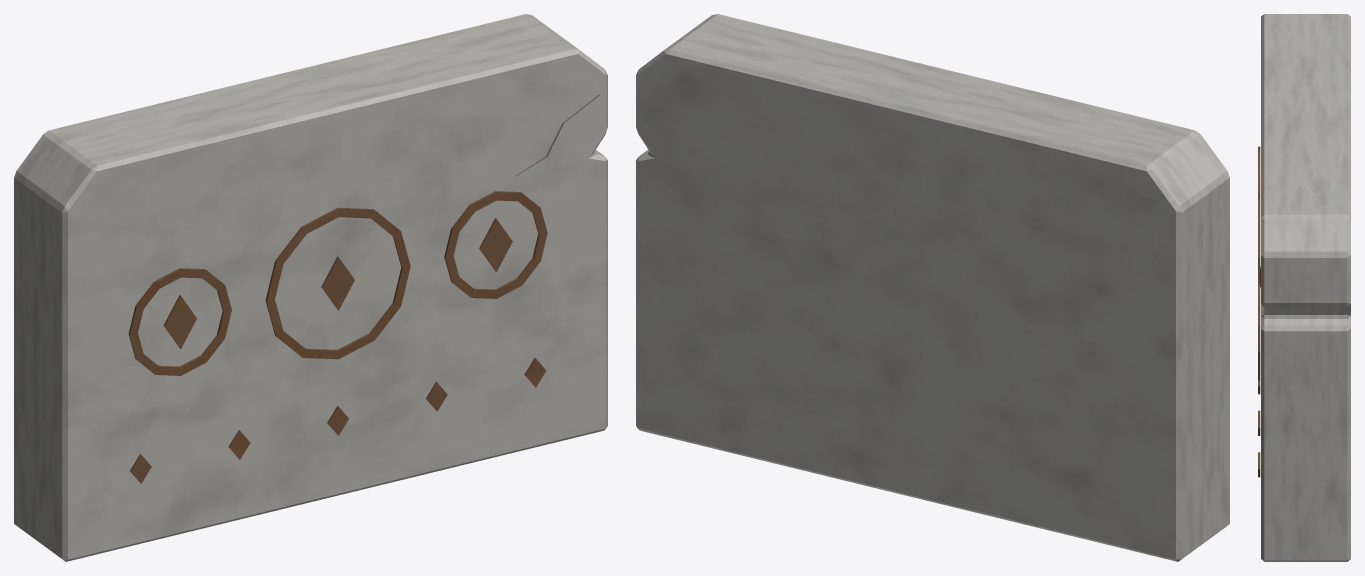
Rendered from P24_stone_tablets_v2.glb.
3 renders of one model, left to right at view 1: azimuth 30°, elevation 25°; view 2: azimuth 150°, elevation 25°; view 3: azimuth 270°, elevation 25°, orthographic. The views are drawn at different scales.
Visible parts, largest first — view 1: Weathered stone tablet; view 2: Weathered stone tablet; view 3: Weathered stone tablet.
Boxes of the visible parts, bbox=[...] form: Weathered stone tablet: bbox=[14, 14, 607, 561]; Weathered stone tablet: bbox=[636, 14, 1229, 561]; Weathered stone tablet: bbox=[1258, 14, 1350, 561].
Size of the model in its own units: 0.5 by 0.3404 by 0.0856.
Materials: 3 (3 with a texture image).
